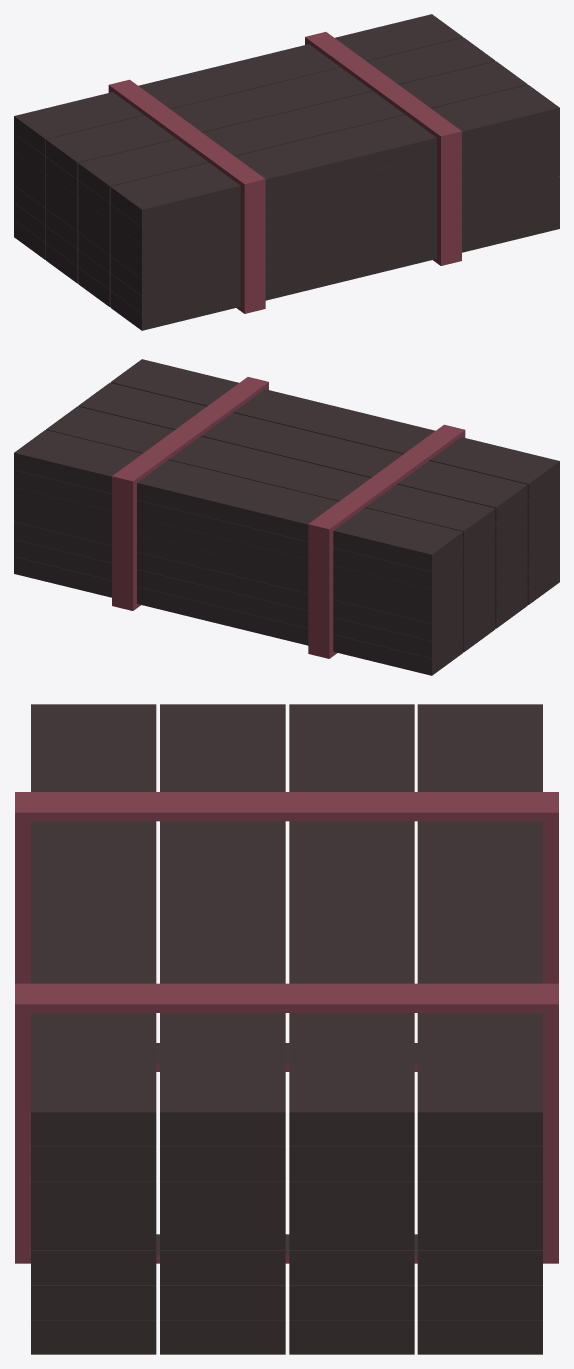
The model's file is Crate.fbx.
3 views of the same model, one above another, from view 1: azimuth 30°, elevation 25°; view 2: azimuth 150°, elevation 25°; view 3: azimuth 270°, elevation 25° (orthographic). The views are drawn at different scales.
Visible parts, largest first — view 1: Crate; view 2: Crate; view 3: Crate.
Part boxes in pixels (bbox=[...]): Crate: bbox=[14, 14, 559, 330]; Crate: bbox=[14, 359, 559, 675]; Crate: bbox=[15, 704, 558, 1354].
Bounding box in the file's own units: 141 × 41.95 × 79.72.
